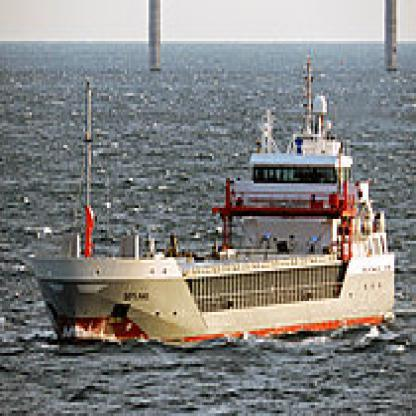Container Ship: (24, 47, 397, 347)
